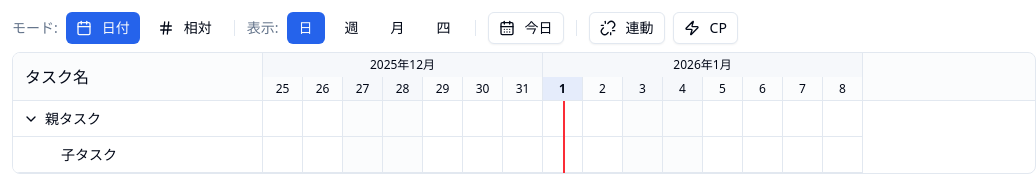
GanttView › 階層構造 › 折りたたみボタンをクリックすると子タスクが非表示になる
Click the button with test id "gantt-collapse-0" at (31, 118), box [21,108,41,128]
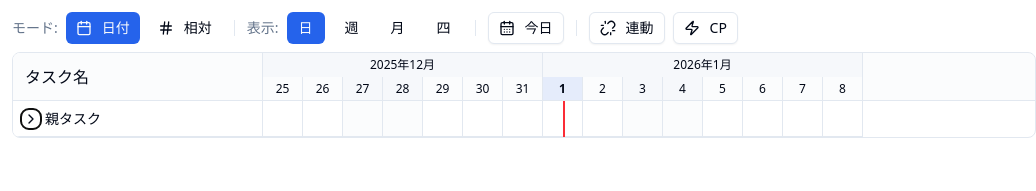
Expected: the text "子タスク" is gone
